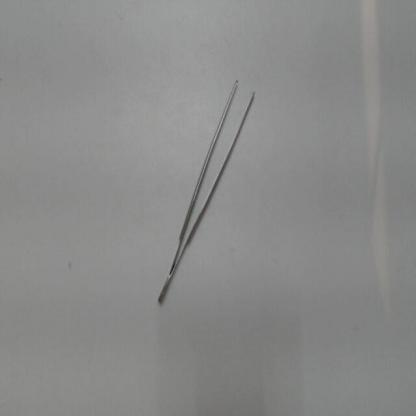Gillies Toothed Dissector: (154, 66, 268, 309)
